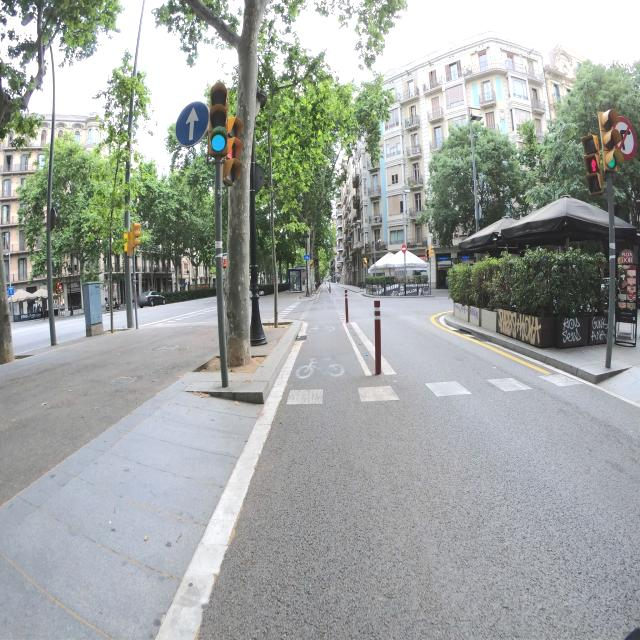car: (138, 290, 166, 308)
